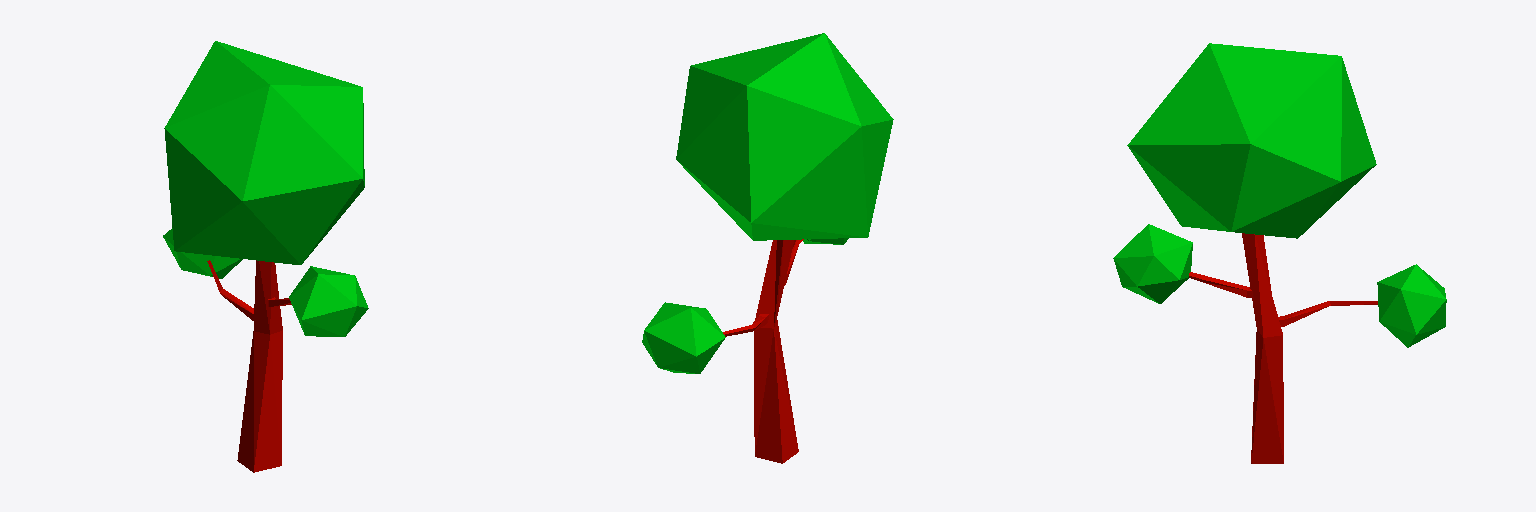
Rendered from Tree.obj.
3 renders of one model, left to right at view 1: azimuth 30°, elevation 25°; view 2: azimuth 150°, elevation 25°; view 3: azimuth 270°, elevation 25°, orthographic.
Visible parts, largest first — view 1: Tree_Cube.003; view 2: Tree_Cube.003; view 3: Tree_Cube.003.
Boxes of the visible parts, box(x1,y1,x2,y2) form: Tree_Cube.003: box(163, 41, 368, 472); Tree_Cube.003: box(642, 33, 893, 463); Tree_Cube.003: box(1113, 43, 1446, 463).
Size of the model in its own units: 3.65 by 7.62 by 5.68.